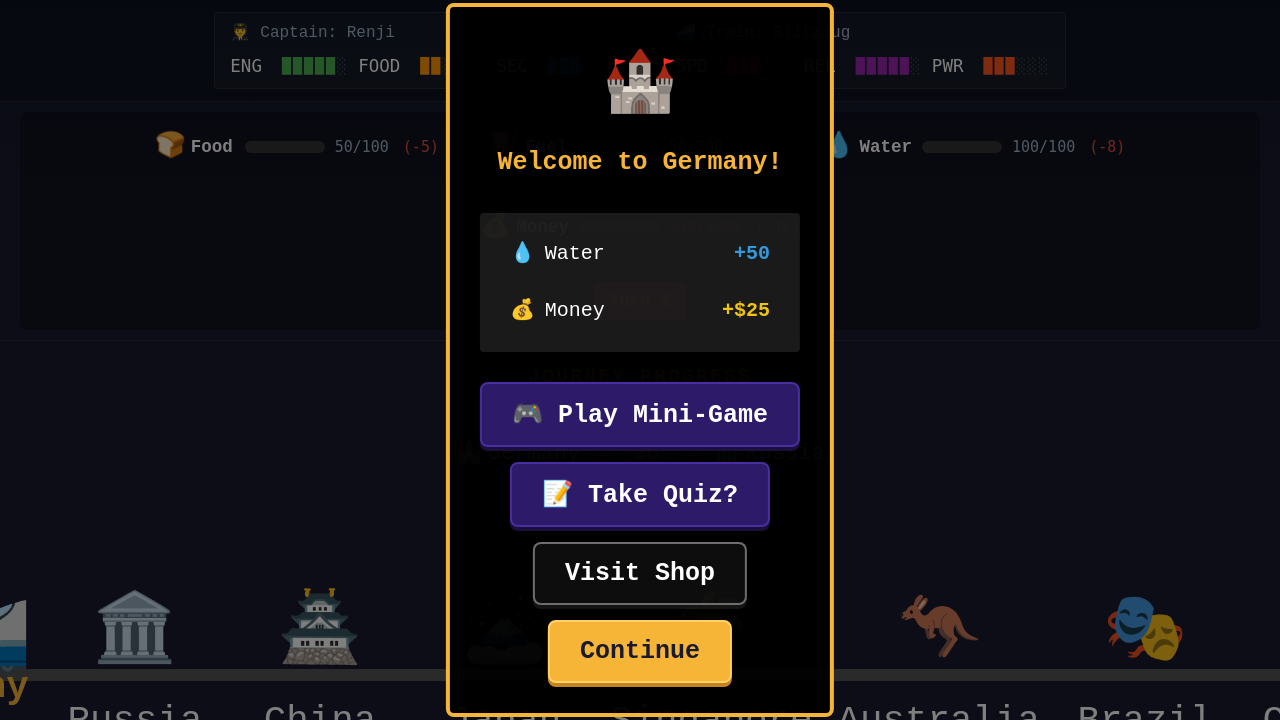
DashboardScreen › quiz flow › does not show station modal when quiz is active
The image size is (1280, 720).
# Start quiz
Click the button "📝 Take Quiz?".
click(640, 494)  # box [510,462,770,527]
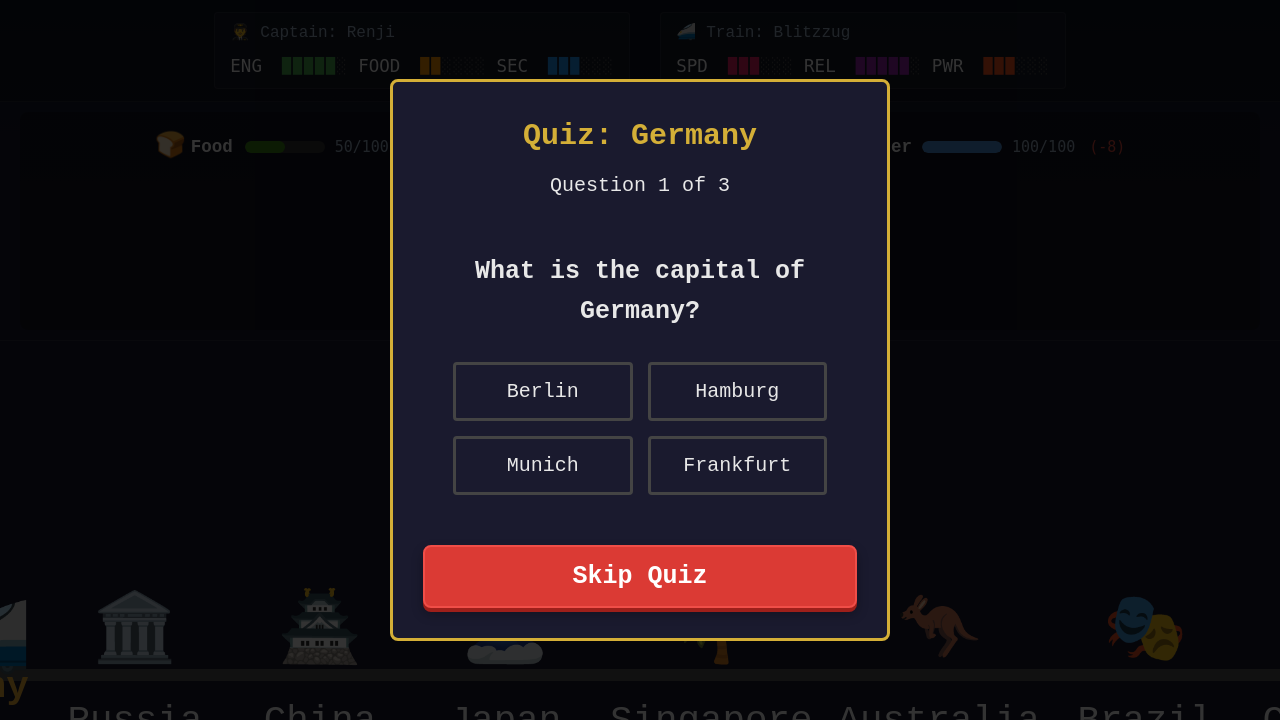
Check: the element with test id "station-modal" is gone
